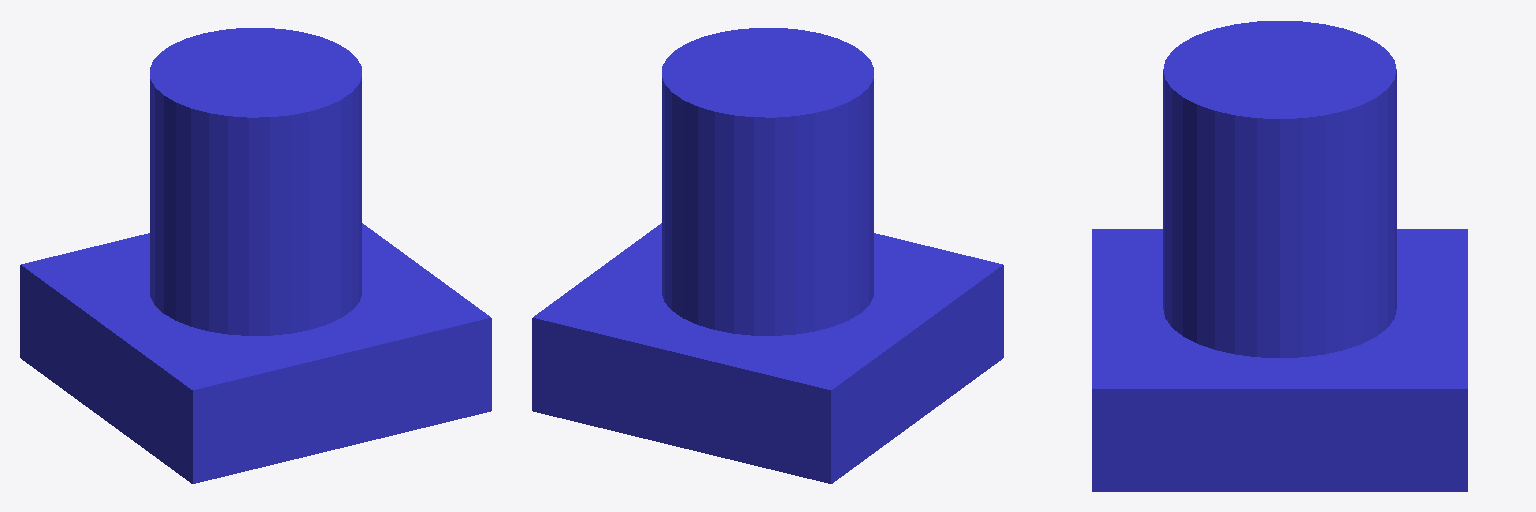
The robot description file, URDF, robot "evolved_robot":
<?xml version="1.0"?>
<robot name="evolved_robot">
  <material name="metal">
    <color rgba="0.7 0.7 0.7 1.0"/>
  </material>
  <material name="plastic">
    <color rgba="0.3 0.3 0.9 1.0"/>
  </material>
  <material name="rubber">
    <color rgba="0.1 0.1 0.1 1.0"/>
  </material>
  <material name="red">
    <color rgba="1.0 0.0 0.0 1.0"/>
  </material>
  <material name="wheel_material">
    <color rgba="0.2 0.2 0.2 1.0"/>
  </material>
  <link name="base_link">
    <visual>
      <geometry><box size="0.31286150573151006 0.3119813481698691 0.09384297560715466"/></geometry>
      <material name="plastic"/>
    </visual>
    <collision>
      <geometry><box size="0.31286150573151006 0.3119813481698691 0.09384297560715466"/></geometry>
    </collision>
    <inertial>
      <mass value="5.0"/>
      <inertia ixx="0.08844905473057844" ixy="0" ixz="0" 
               iyy="0.0889073548661606" iyz="0" 
               izz="0.16267890281206399"/>
    </inertial>
  </link>
  <link name="link1">
    <visual>
      <geometry><cylinder radius="0.08335032173503498" length="0.12028018870581673"/></geometry>
      <material name="rubber"/>
    </visual>
    <collision>
      <geometry><cylinder radius="0.08335032173503498" length="0.12028018870581673"/></geometry>
    </collision>
    <inertial>
      <mass value="0.5"/>
      <inertia ixx="0.0029424293495923684" ixy="0" ixz="0" 
               iyy="0.0029424293495923684" iyz="0" 
               izz="0.0034736380666669227"/>
    </inertial>
  </link>
  <joint name="joint1" type="fixed">
    <parent link="base_link"/>
    <child link="link1"/>
    <origin xyz="0 0 0.04692148780357733" rpy="0 0 0"/>
    <axis xyz="-0.613880854105389 0.0 0.7893986932867562"/>
    <dynamics damping="0.6661406666244551" friction="0.1"/>
  </joint>
  <link name="link2">
    <visual>
      <geometry><sphere radius="0.047331078017114434"/></geometry>
      <material name="plastic"/>
    </visual>
    <collision>
      <geometry><sphere radius="0.047331078017114434"/></geometry>
    </collision>
    <inertial>
      <mass value="0.5"/>
      <inertia ixx="0.0008960923785048694" ixy="0" ixz="0" 
               iyy="0.0008960923785048694" iyz="0" 
               izz="0.0008960923785048694"/>
    </inertial>
  </link>
  <joint name="joint2" type="revolute">
    <parent link="base_link"/>
    <child link="link2"/>
    <origin xyz="0 0 0.09692148780357733" rpy="0 0 0"/>
    <axis xyz="-0.0018715106923973192 0.709520391721986 -0.7046824186670249"/>
    <dynamics damping="0.4562130730949524" friction="0.1"/>
    <limit lower="-1.3344739324157493" upper="0.31400000000000006" effort="100" velocity="100"/>
  </joint>
  <link name="link3">
    <visual>
      <geometry><cylinder radius="0.09670771443861105" length="0.23686222026492082"/></geometry>
      <material name="plastic"/>
    </visual>
    <collision>
      <geometry><cylinder radius="0.09670771443861105" length="0.23686222026492082"/></geometry>
    </collision>
    <inertial>
      <mass value="0.5"/>
      <inertia ixx="0.007013404790387308" ixy="0" ixz="0" 
               iyy="0.007013404790387308" iyz="0" 
               izz="0.00467619101596997"/>
    </inertial>
  </link>
  <joint name="joint3" type="fixed">
    <parent link="base_link"/>
    <child link="link3"/>
    <origin xyz="0 0 0.14692148780357733" rpy="0 0 0"/>
    <axis xyz="0.9847453380853673 -0.15026883013444212 -0.08772626635826922"/>
    <dynamics damping="0.7707366563540948" friction="0.1"/>
  </joint>
</robot>

--- Render facts (derived) ---
3 views of the same robot in one strip: view 1: azimuth 30°, elevation 25°; view 2: azimuth 150°, elevation 25°; view 3: azimuth 270°, elevation 25° (orthographic).
Robot: evolved_robot — 4 links, 3 joints (1 revolute, 2 fixed); root link base_link; default pose: every joint at zero.
Visible links, largest first — view 1: base_link, link3; view 2: base_link, link3; view 3: link3, base_link.
Boxes of the visible links, x1,y1,x2,y2 form: base_link: (20, 223, 491, 483); link3: (150, 28, 361, 335); base_link: (532, 223, 1003, 483); link3: (662, 28, 873, 335); link3: (1163, 21, 1396, 357); base_link: (1092, 229, 1467, 491).
Size in the robot's own frame: 0.3129 by 0.312 by 0.3123 metres.
Geometry: primitives only (box / cylinder / sphere), no mesh files.